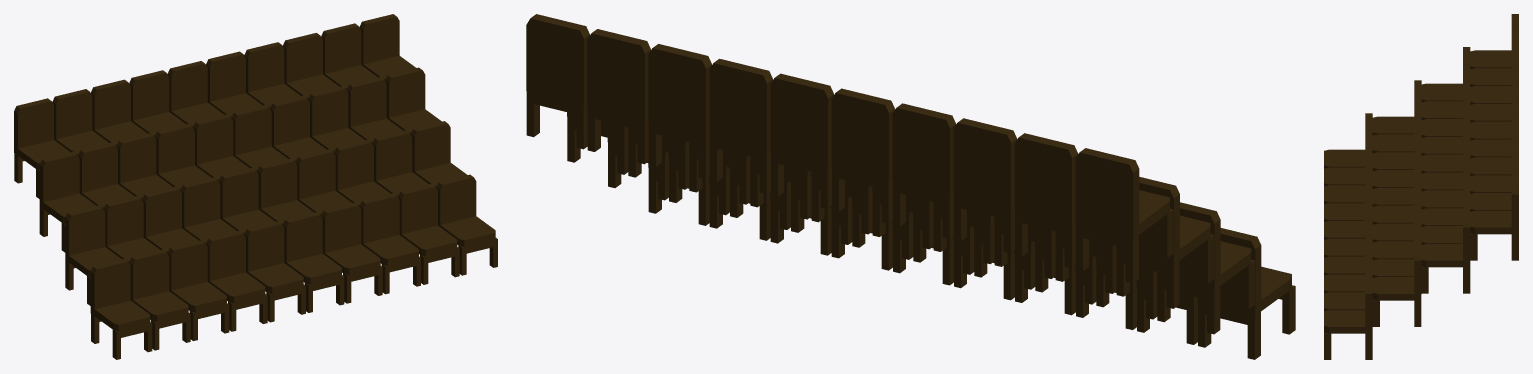
The model's file is Sits.fbx.
3 renders of one model, left to right at view 1: azimuth 30°, elevation 25°; view 2: azimuth 150°, elevation 25°; view 3: azimuth 270°, elevation 25°, orthographic. The views are drawn at different scales.
Parts seen in each view (by area): view 1: Cube; view 2: Cube; view 3: Cube.
Part boxes in pixels (x1,y1,x2,y2): Cube: (14,14,497,359); Cube: (526,14,1295,359); Cube: (1324,14,1518,359).
Bounding box in the file's own units: 1723 × 770 × 800.
